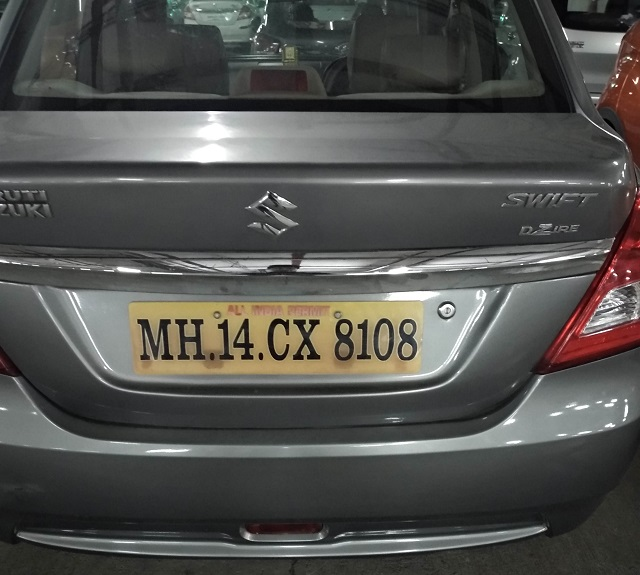licenseplate: (121, 300, 428, 377)
